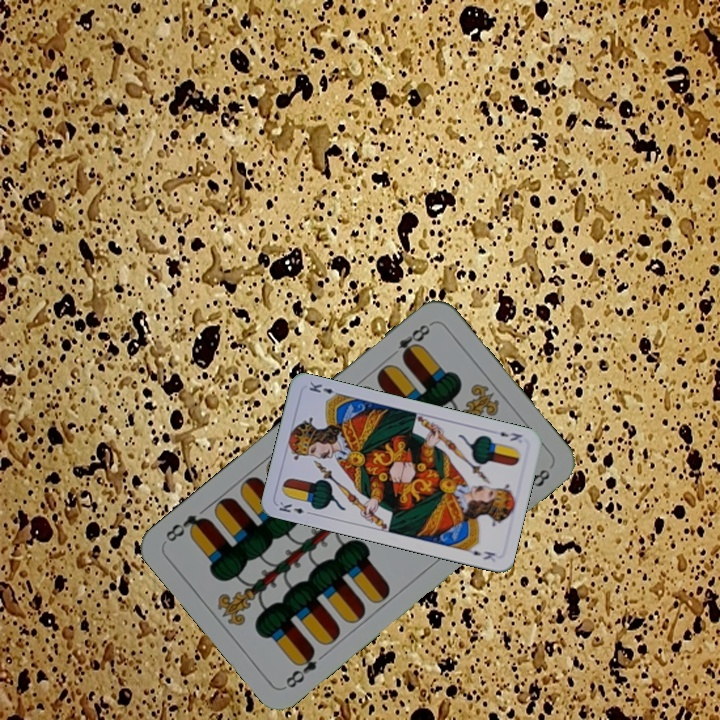E8: (385, 319, 435, 363), (281, 644, 320, 691)
EK: (275, 498, 315, 518), (496, 428, 525, 444)
